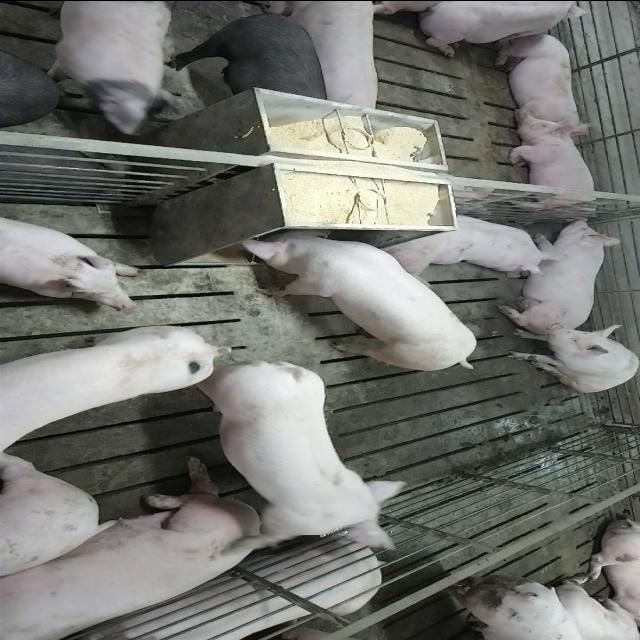Feeding: (230, 220, 478, 368)
Lateral_lying: (4, 458, 278, 637)
Sitting: (504, 322, 639, 392)
Standing: (172, 360, 410, 556), (0, 318, 226, 461), (32, 2, 186, 138), (174, 13, 336, 105), (288, 2, 377, 116), (2, 36, 64, 126)
Sternal_lying: (501, 218, 627, 326), (0, 210, 139, 306), (383, 209, 557, 273), (408, 3, 600, 57), (491, 29, 588, 131), (506, 118, 604, 215)
